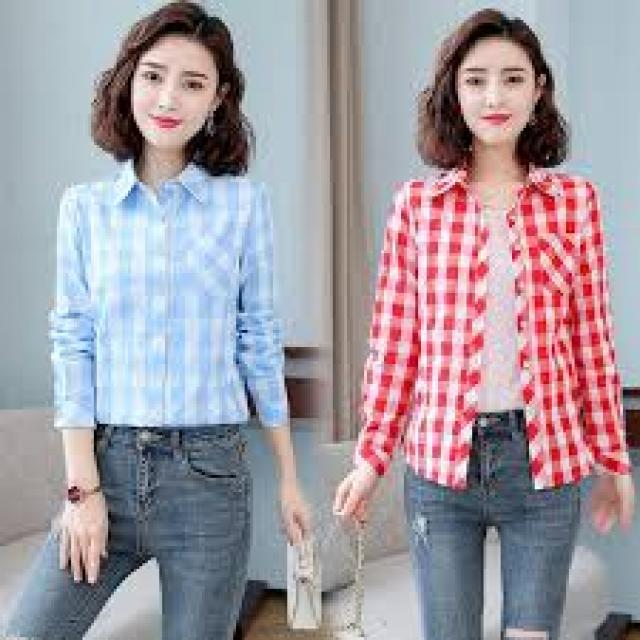plaid: (358, 170, 640, 486), (45, 177, 293, 433)
